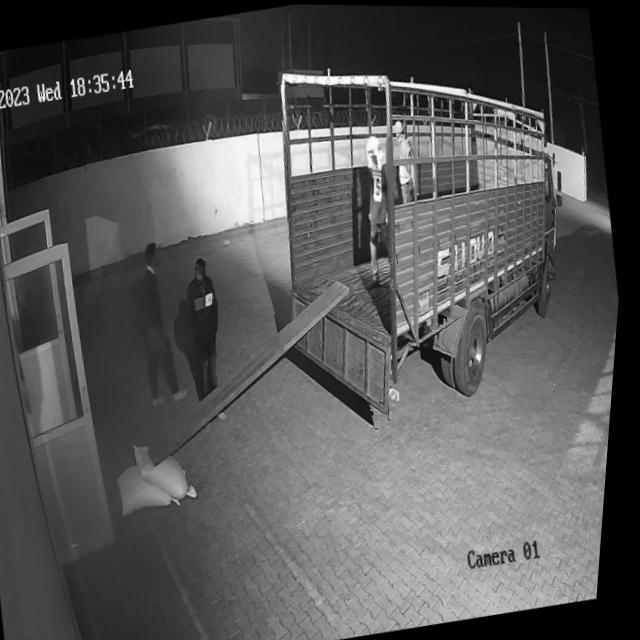sack: (134, 431, 208, 505), (119, 453, 191, 515)
